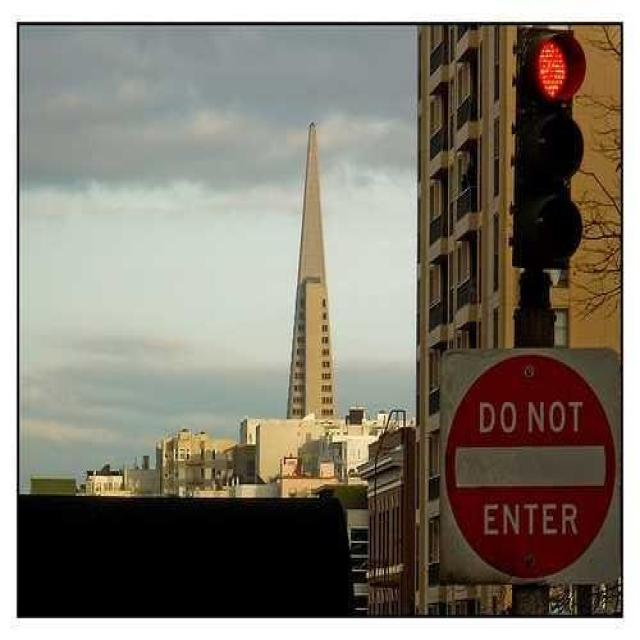Traffic Light -Red-: (509, 23, 589, 276)
